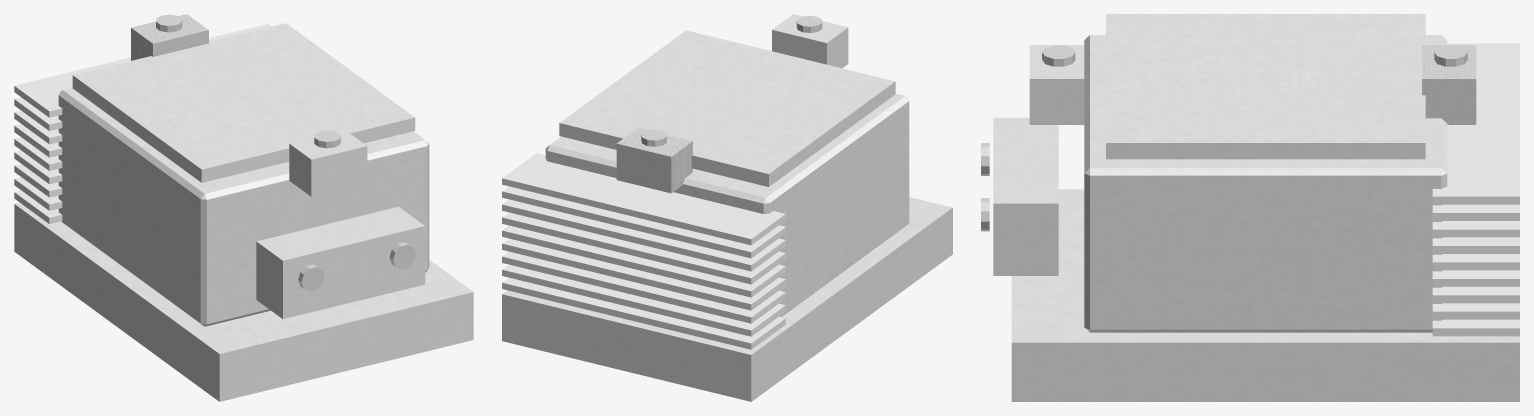
File: switchgear_ssr.obj
3 views of the same model, side by side, from view 1: azimuth 30°, elevation 25°; view 2: azimuth 150°, elevation 25°; view 3: azimuth 270°, elevation 25° (orthographic). The views are drawn at different scales.
Visible parts, largest first — view 1: Case, Base, Control, Heatsink, Terminal, NO; view 2: Case, Heatsink, Base, Terminal, NO; view 3: Case, Base, Heatsink, Control, Terminal, NO.
Boxes of the visible parts, left/top/right/bottom form: Case: left=58, top=23, right=429, bottom=326; Base: left=14, top=202, right=473, bottom=401; Control: left=256, top=206, right=425, bottom=318; Heatsink: left=14, top=24, right=271, bottom=223; Terminal: left=131, top=14, right=416, bottom=291; NO: left=289, top=130, right=367, bottom=196; Case: left=545, top=30, right=909, bottom=316; Heatsink: left=502, top=153, right=785, bottom=349; Base: left=502, top=197, right=952, bottom=401; Terminal: left=616, top=15, right=822, bottom=193; NO: left=772, top=14, right=848, bottom=68; Case: left=1084, top=14, right=1447, bottom=332; Base: left=1011, top=189, right=1519, bottom=401; Heatsink: left=1432, top=43, right=1519, bottom=336; Control: left=993, top=117, right=1058, bottom=275; Terminal: left=981, top=45, right=1476, bottom=231; NO: left=1029, top=45, right=1084, bottom=124.
Size of the model in its own units: 0.5 by 0.415 by 0.742.
